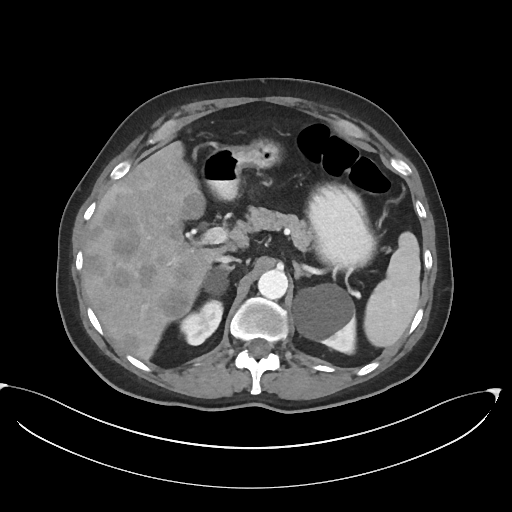Lesion: (287, 279, 358, 345)
